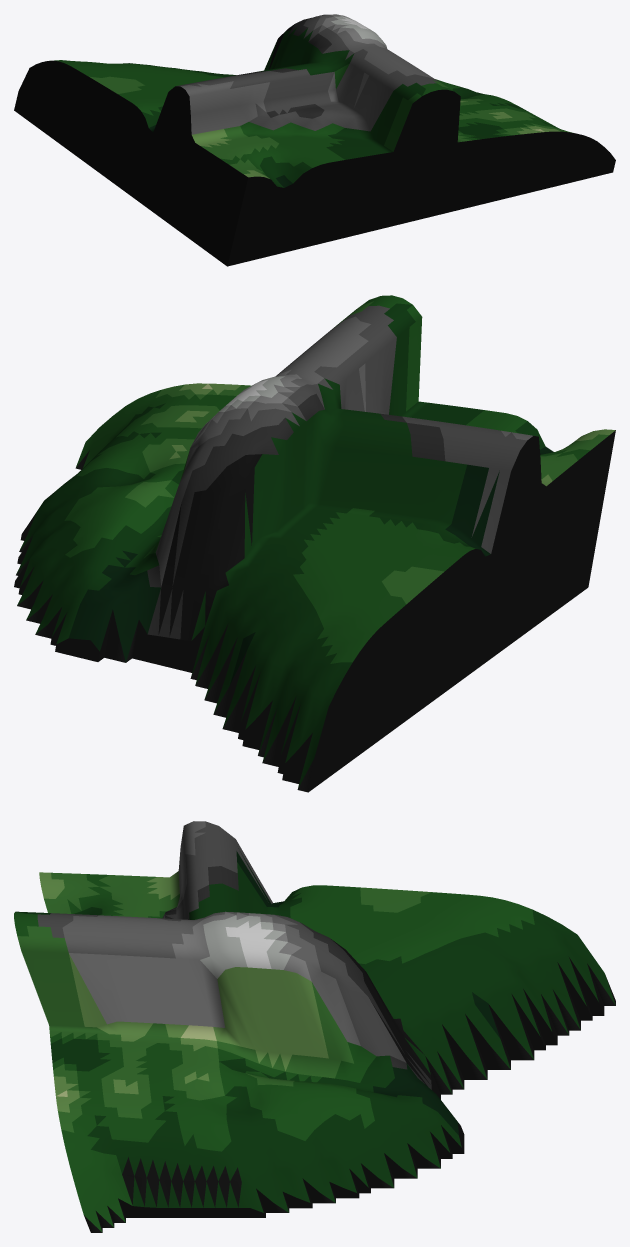
File: green_shell_159.glb
3 views of the same model, one above another, from view 1: azimuth 30°, elevation 25°; view 2: azimuth 150°, elevation 25°; view 3: azimuth 270°, elevation 25° (orthographic). The views are drawn at different scales.
Visible parts, largest first — view 1: green_shell_159; view 2: green_shell_159; view 3: green_shell_159.
Boxes of the visible parts, x1,y1,x2,y2 form: green_shell_159: (14, 14, 615, 266); green_shell_159: (14, 295, 615, 792); green_shell_159: (14, 821, 615, 1232).
Bounding box in the file's own units: 23.5 × 9.05 × 25.79.
